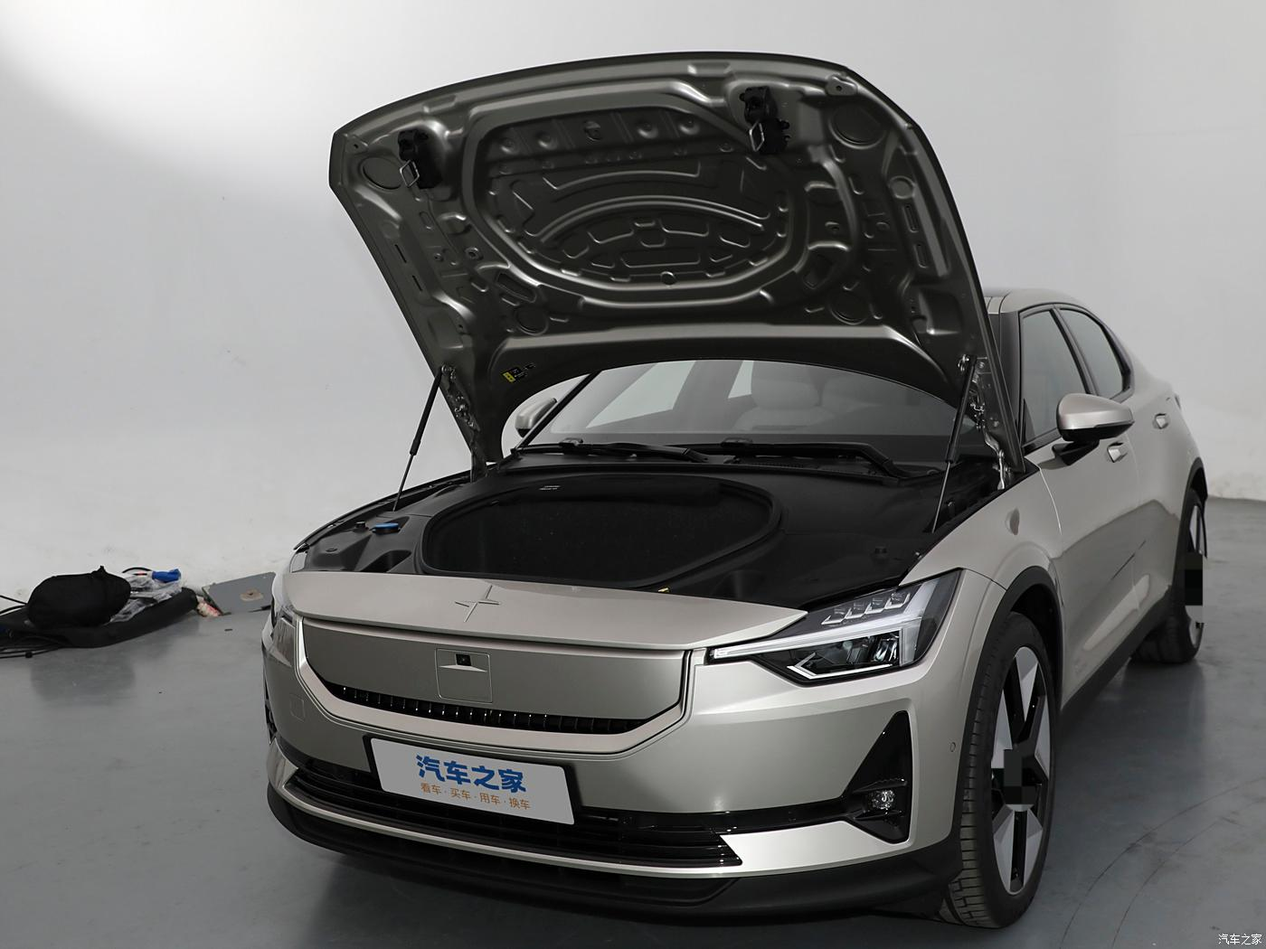Polestar: (456, 586, 499, 623)
